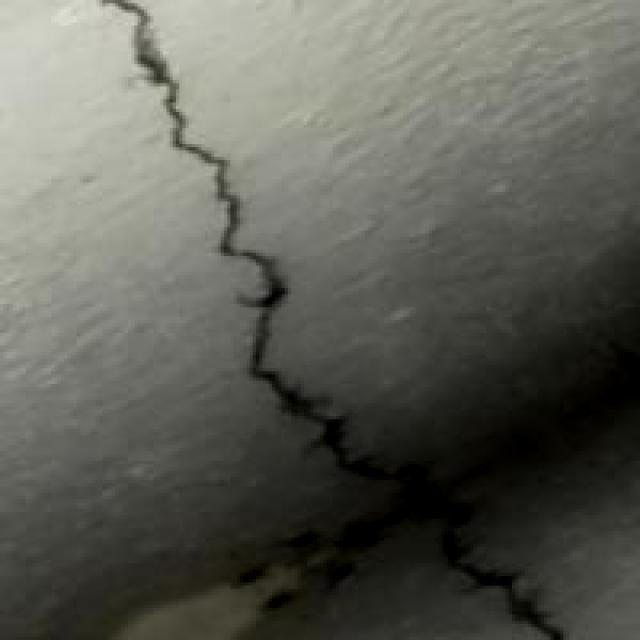crack: (90, 0, 612, 640)
